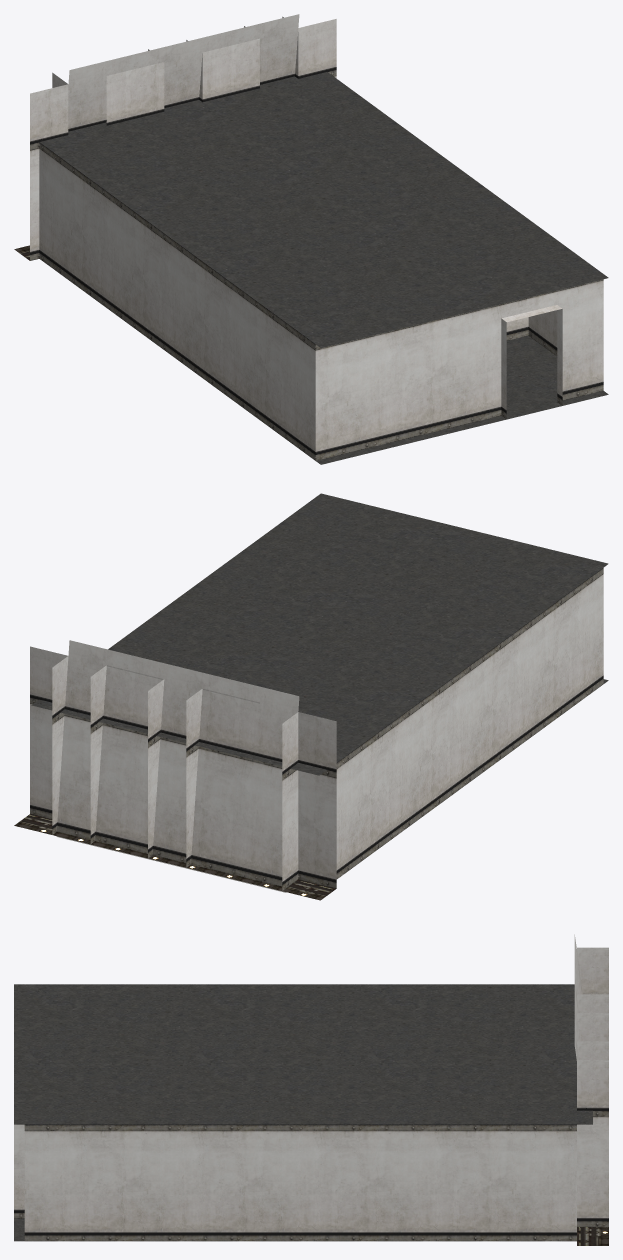
File: StoreRoom.glb
3 views of the same model, one above another, from view 1: azimuth 30°, elevation 25°; view 2: azimuth 150°, elevation 25°; view 3: azimuth 270°, elevation 25° (orthographic).
Visible parts, largest first — view 1: default_drawnmesh0_0, default_drawnmesh1_0; view 2: default_drawnmesh1_0, default_drawnmesh0_0, default_drawnmesh3_0; view 3: default_drawnmesh0_0, default_drawnmesh1_0, default_drawnmesh3_0.
Boxes of the visible parts, box(x1,y1,x2,y2) form: default_drawnmesh0_0: box(39, 72, 608, 464); default_drawnmesh1_0: box(30, 14, 603, 460); default_drawnmesh1_0: box(30, 568, 603, 892); default_drawnmesh0_0: box(31, 493, 608, 775); default_drawnmesh3_0: box(14, 814, 336, 900); default_drawnmesh0_0: box(14, 984, 592, 1241); default_drawnmesh1_0: box(14, 934, 608, 1241); default_drawnmesh3_0: box(577, 1227, 608, 1245).
Bounding box in the file's own units: 10.56 × 6.16 × 17.76.
Materials: 4 (4 with a texture image).
